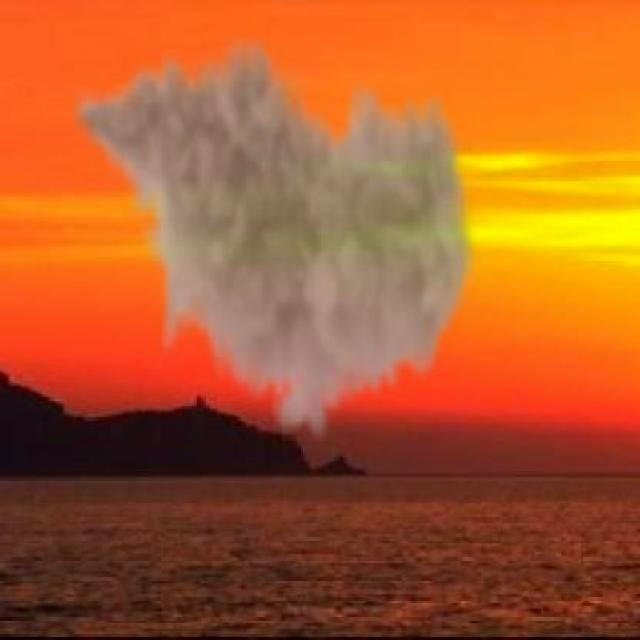Smoke: (75, 56, 551, 444)
